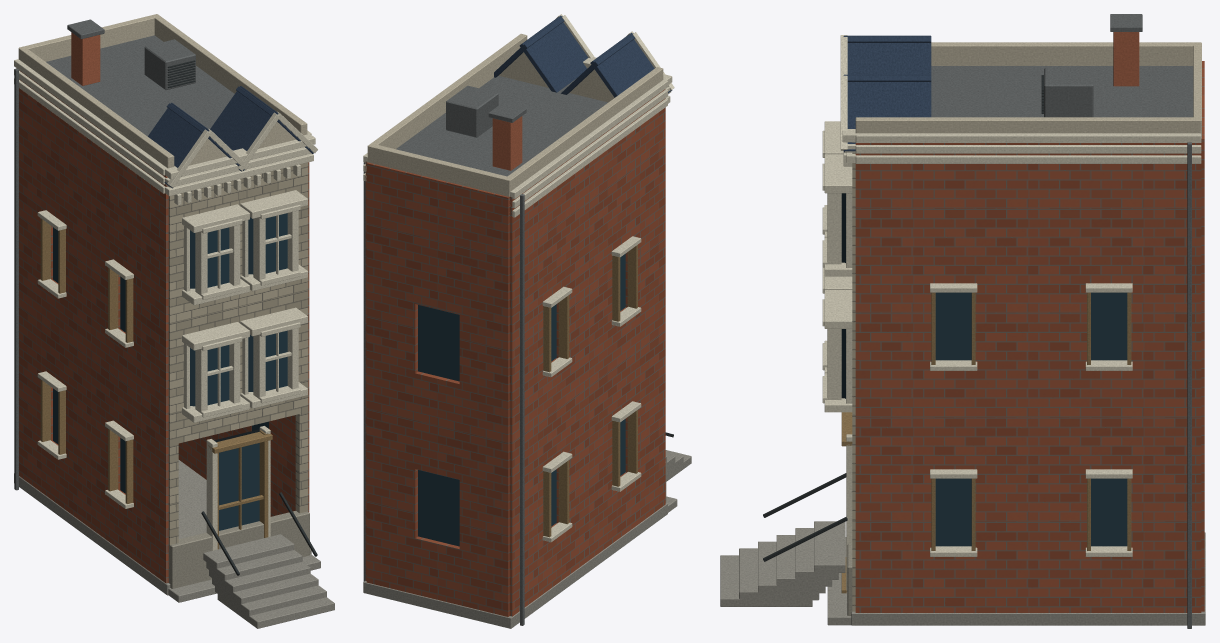
Rendered from RUNDWN12_lod1.glb.
3 views of the same model, side by side, from view 1: azimuth 30°, elevation 25°; view 2: azimuth 150°, elevation 25°; view 3: azimuth 270°, elevation 25° (orthographic). The views are drawn at different scales.
Visible parts, largest first — view 1: RUNDWN12_LOD1; view 2: RUNDWN12_LOD1; view 3: RUNDWN12_LOD1.
Boxes of the visible parts, x1=… form: RUNDWN12_LOD1: x1=14, y1=14, x2=334, y2=628; RUNDWN12_LOD1: x1=363, y1=14, x2=691, y2=628; RUNDWN12_LOD1: x1=720, y1=14, x2=1205, y2=628.
Size of the model in its own units: 3.71 by 10.45 by 8.43.
Materials: 13 (11 with a texture image).
